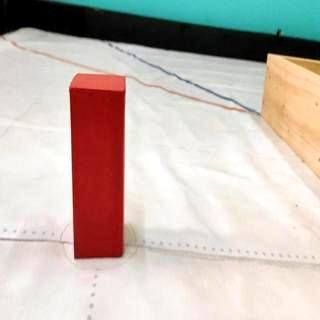redbox: (68, 72, 126, 260)
